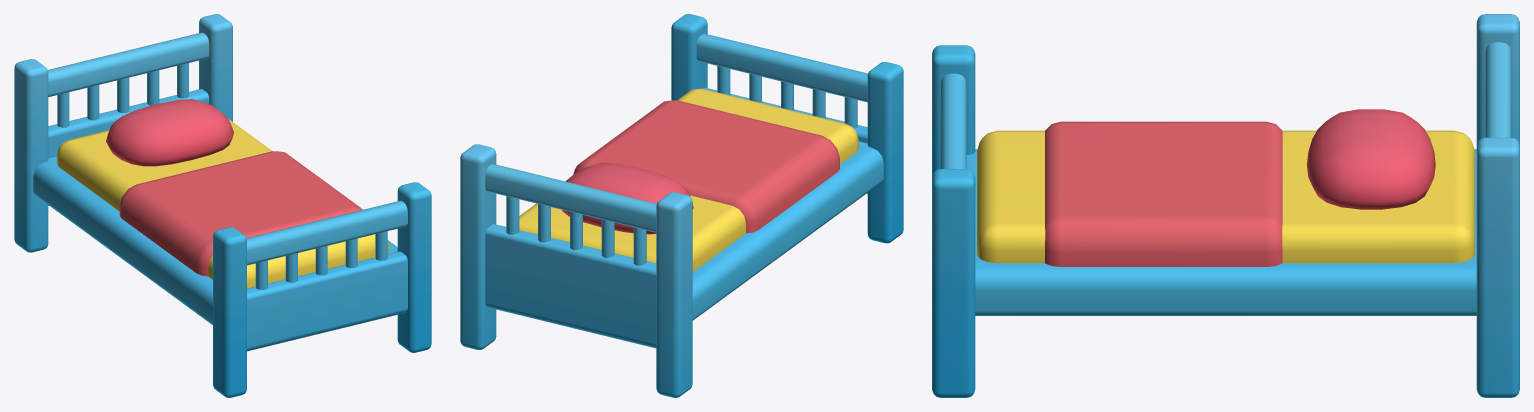
Rendered from Bed_16.glb.
3 renders of one model, left to right at view 1: azimuth 30°, elevation 25°; view 2: azimuth 150°, elevation 25°; view 3: azimuth 270°, elevation 25°, orthographic. The views are drawn at different scales.
Visible parts, largest first — view 1: Bed_16; view 2: Bed_16; view 3: Bed_16.
Boxes of the visible parts, box(x1,y1,x2,y2) form: Bed_16: box(14, 14, 431, 397); Bed_16: box(460, 14, 903, 397); Bed_16: box(932, 14, 1519, 397).
Bounding box in the file's own units: 0.95 × 0.8004 × 1.7.
1 material, 1 textured.
